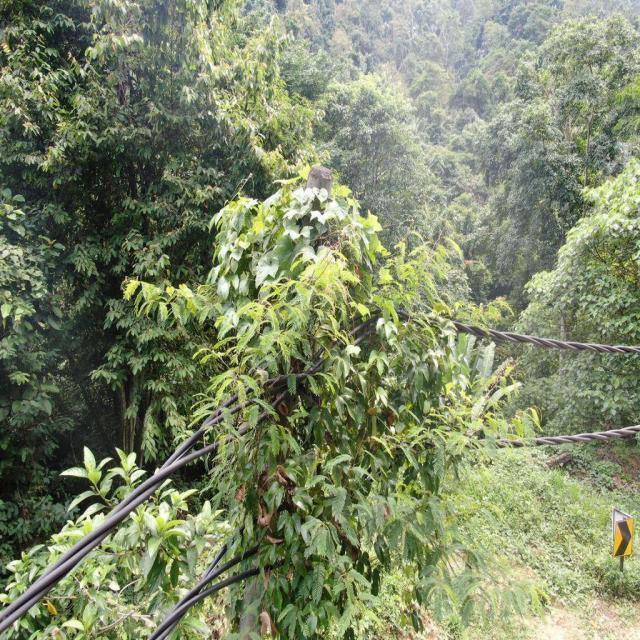critical vegetation: (148, 156, 459, 636)
